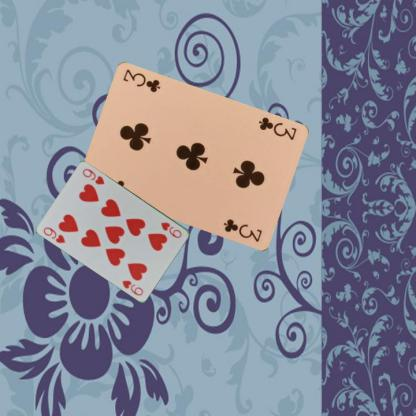3c: (256, 115, 298, 142)
9h: (41, 224, 66, 245), (158, 220, 183, 239)
